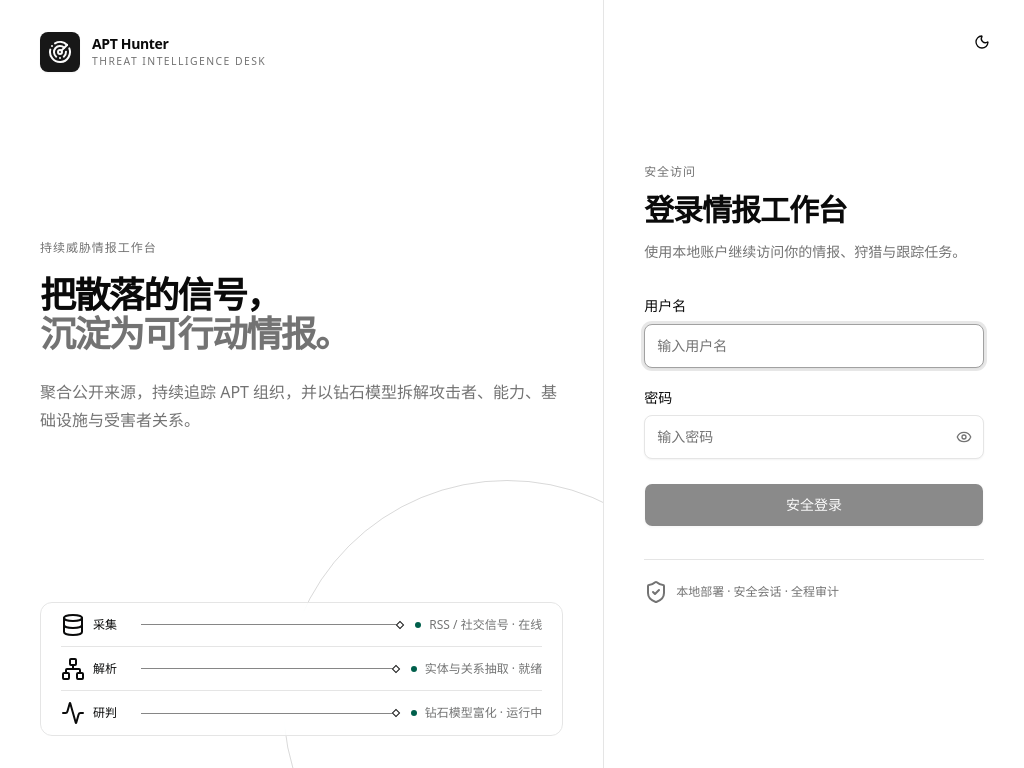
Test case: renders the lightweight intelligence identity and toggles password visibility
Expected: the heading "把散落的信号，沉淀为可行动情报。" is shown, [40,270,349,358]
Expected: the heading "登录情报工作台" is shown, [644,189,847,230]
Click the button named "显示密码". click: [964, 437]
box: [948,421,980,453]
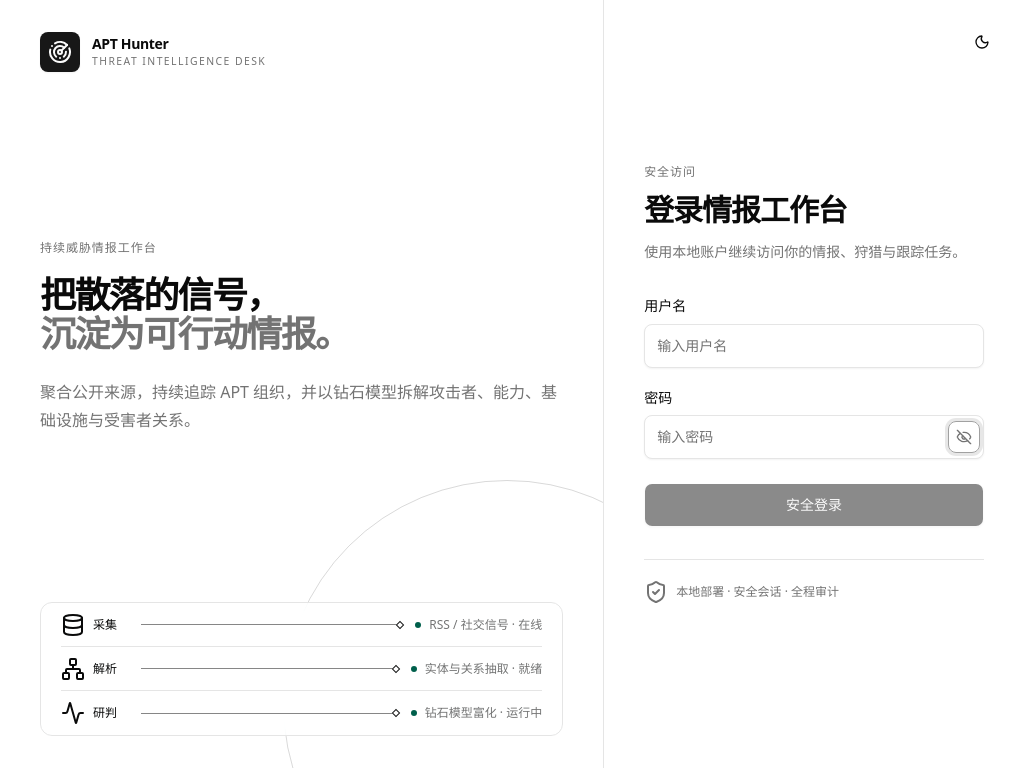
Result: the button named "隐藏密码" is shown at [948,421,980,453]
